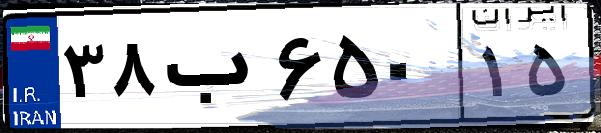0: (385, 28, 445, 110)
1: (475, 38, 525, 113)
3: (57, 26, 110, 100)
5: (330, 28, 385, 110), (525, 38, 570, 115)
6: (270, 28, 330, 110)
8: (110, 28, 158, 98)
ب: (158, 20, 270, 120)
